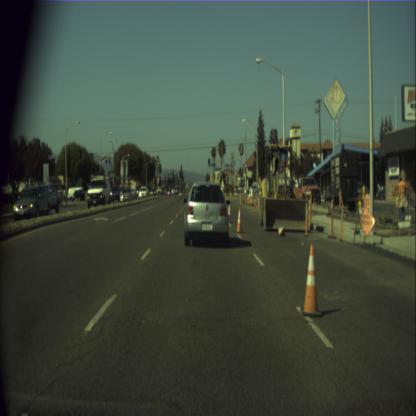Green: (207, 158, 210, 166)
Red: (158, 176, 161, 186)
